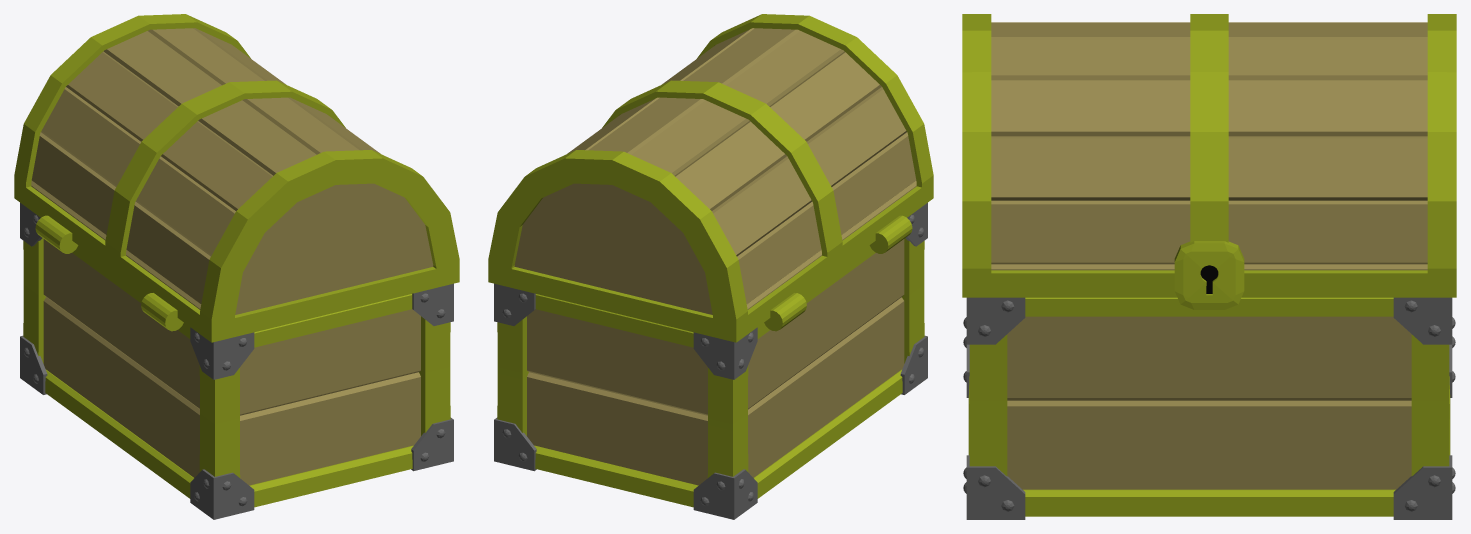
The model's file is Chest.gltf.
The picture shows the model from 3 angles, left to right: view 1: azimuth 30°, elevation 25°; view 2: azimuth 150°, elevation 25°; view 3: azimuth 270°, elevation 25°; orthographic projection. The views are drawn at different scales.
Parts seen in each view (by area): view 1: Top, Chest; view 2: Top, Chest; view 3: Top, Chest.
Part boxes in pixels (x1,y1,x2,y2): Top: (14,14,459,342); Chest: (20,203,453,519); Top: (488,14,933,342); Chest: (494,203,927,519); Top: (962,14,1456,309); Chest: (963,297,1455,519).
Bounding box in the file's own units: 0.6593 × 0.7748 × 0.835.
